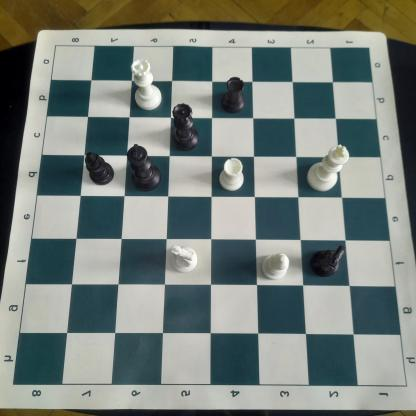black-bishop: (83, 149, 118, 189)
black-king: (126, 140, 164, 194)
black-knight: (309, 241, 349, 280)
black-queen: (167, 101, 201, 152)
black-rook: (217, 73, 248, 116)
white-bishop: (260, 250, 294, 282)
white-king: (305, 140, 349, 194)
white-knight: (168, 243, 199, 275)
white-queen: (129, 57, 162, 111)
white-rook: (214, 156, 247, 194)
